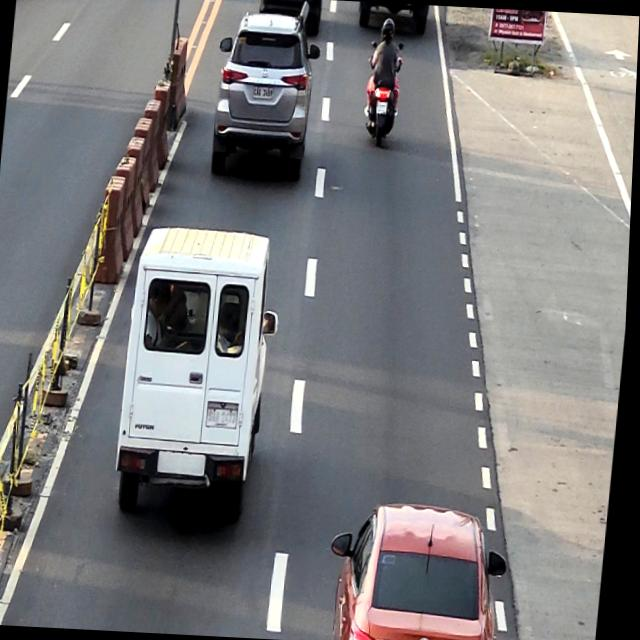Car: (114, 227, 290, 526), (328, 500, 518, 640), (208, 11, 325, 184)
License-Plate: (210, 408, 242, 429), (253, 85, 275, 101)
Motorcycle: (361, 38, 406, 148)
